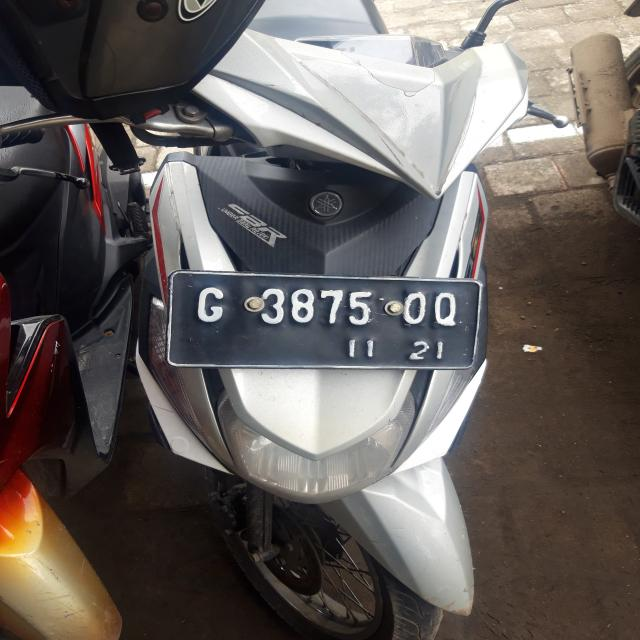plate: (173, 273, 482, 374)
